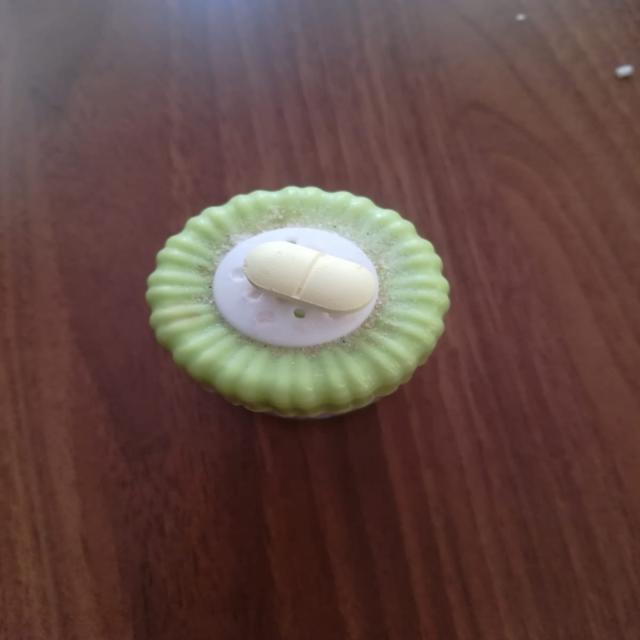pills: (235, 227, 388, 321)
